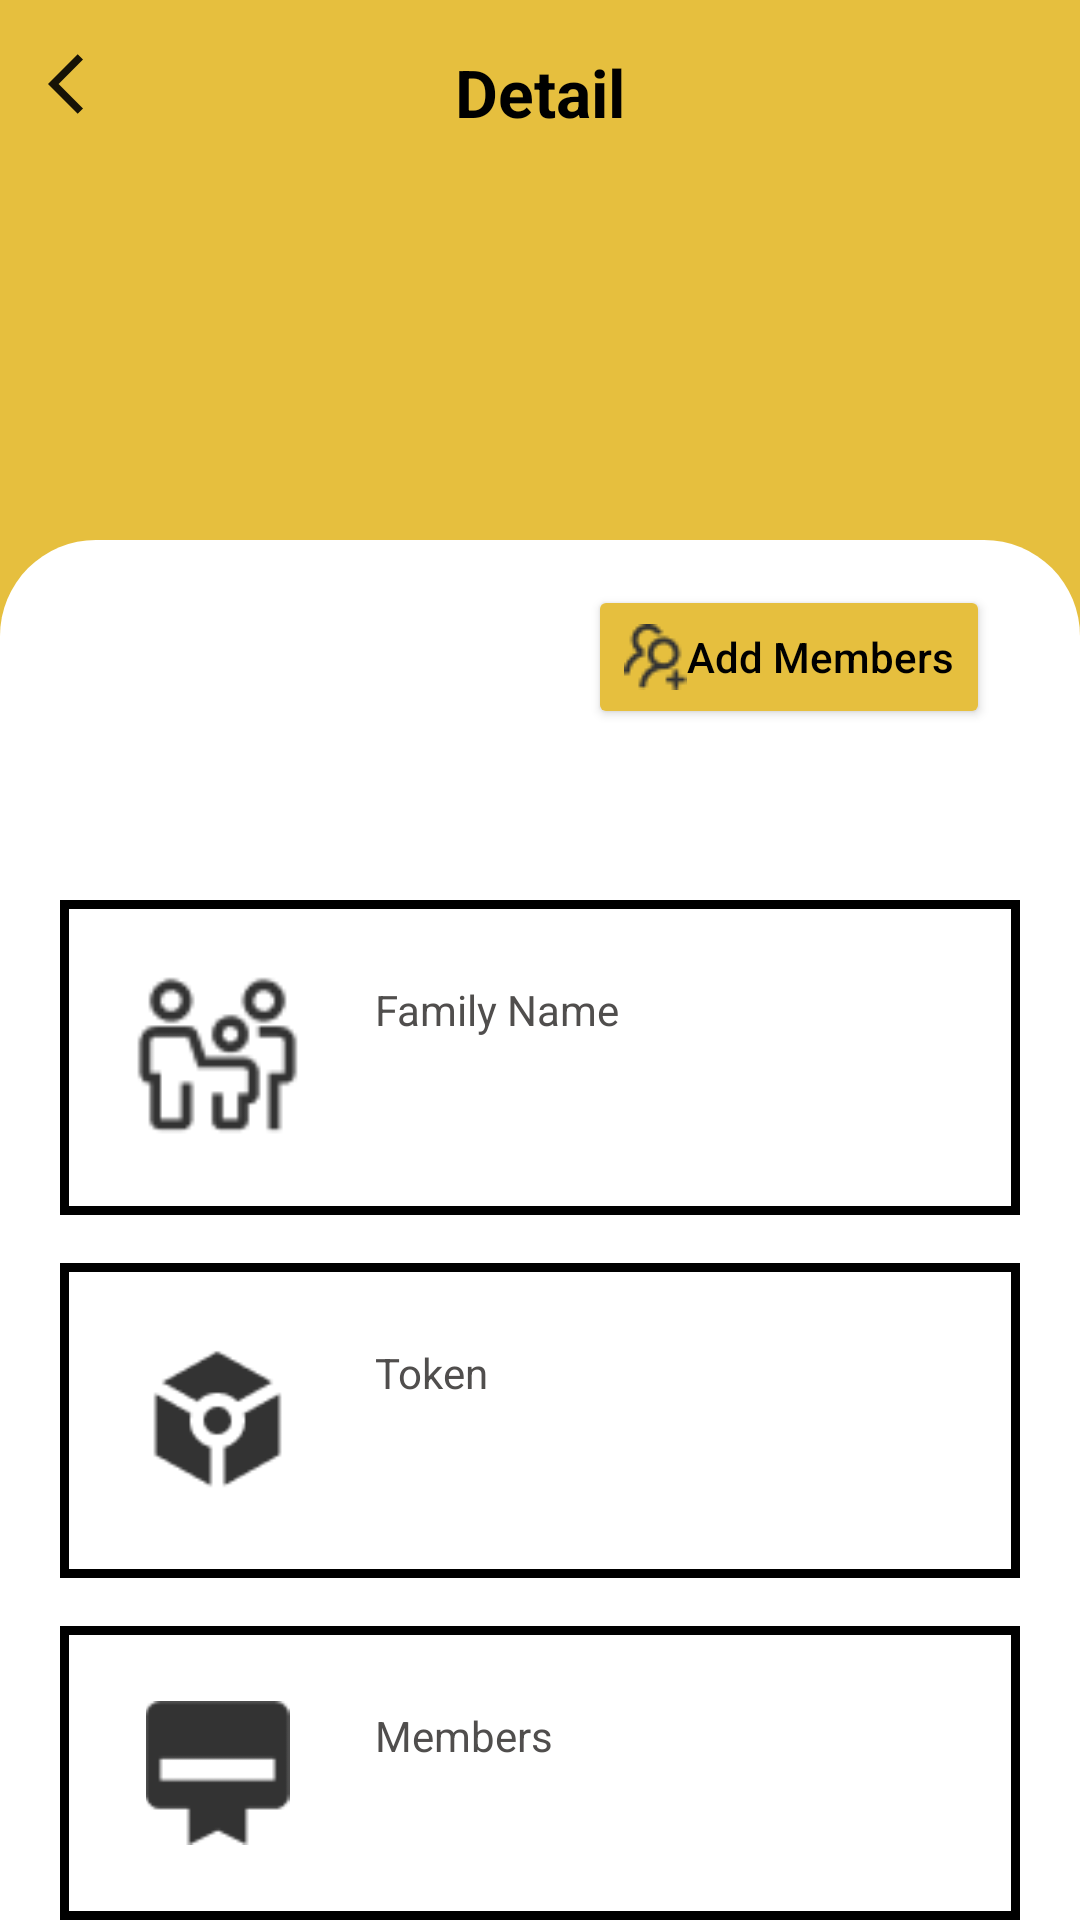

Named icons in this screenshot (1080*1920) and their centers, (x,y):
back: (65,84)
